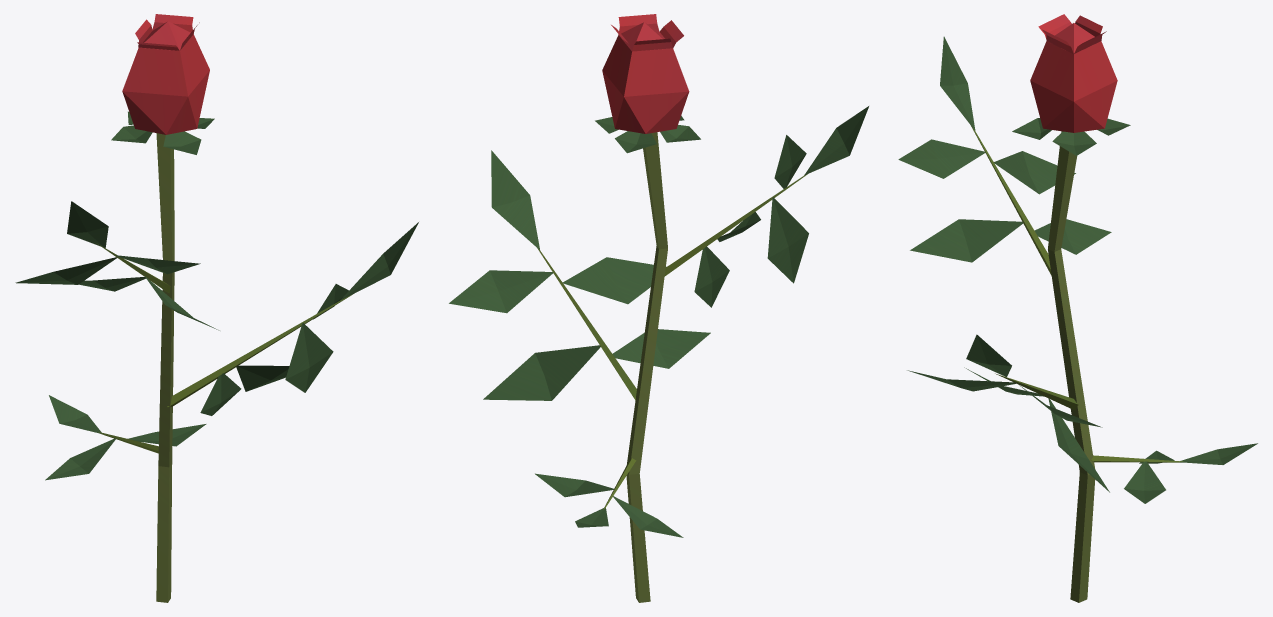
File: Plant_9.fbx
3 renders of one model, left to right at view 1: azimuth 30°, elevation 25°; view 2: azimuth 150°, elevation 25°; view 3: azimuth 270°, elevation 25°, orthographic.
Parts seen in each view (by area): view 1: polySurface10624; view 2: polySurface10624; view 3: polySurface10624.
Part boxes in pixels (box(x1,y1,x2,y2)): polySurface10624: box(15, 14, 418, 602); polySurface10624: box(449, 14, 868, 602); polySurface10624: box(898, 14, 1257, 602).
Bounding box in the file's own units: 83.23 × 126 × 71.6.
